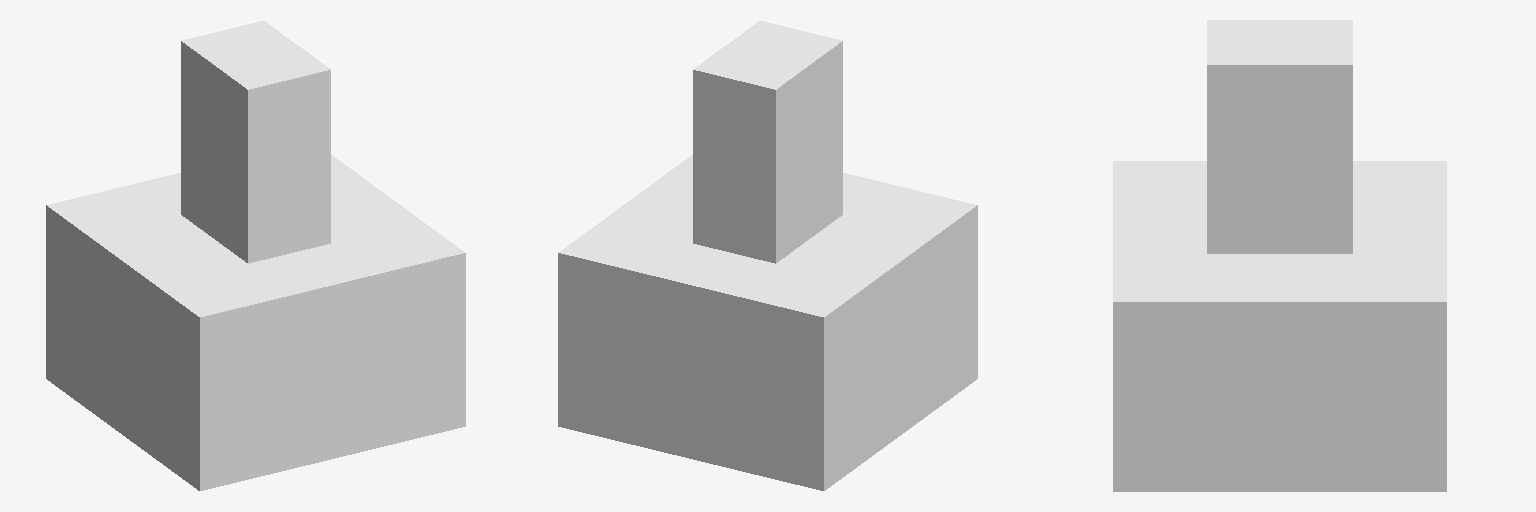
The robot description file, URDF, robot "prism":
<robot name="prism">
	<link name="_name">
		<visual>
			<origin rpy="0 0 0" xyz="0.0 0.0 -0.007037914691943129" />
			<geometry>
				<mesh filename="prism.obj" scale=".001 .001 .001" />
			</geometry>
			<material name="texture">
				<color rgba="1.0 1.0 1.0 1.0" />
			</material>
		</visual>
		<collision>
			<geometry>
				<mesh filename="prism_vhacd.obj" scale=".001 .001 .001" />
			</geometry>
		<origin rpy="0 0 0" xyz="0.0 0.0 -0.007037914691943129" /></collision>
		<inertial>
			<mass value="1.0" />
			<inertia ixx="1.0" ixy="0.0" ixz="0.0" iyy="1.0" iyz="0.0" izz="1.0" />
		</inertial>
	</link>
</robot>

--- Render facts (derived) ---
The picture shows the robot from 3 angles, left to right: view 1: azimuth 30°, elevation 25°; view 2: azimuth 150°, elevation 25°; view 3: azimuth 270°, elevation 25°; orthographic projection.
Robot: prism — 1 links, 0 joints (none); root link _name; default pose: all joints at 0.
Visible links, largest first — view 1: _name; view 2: _name; view 3: _name.
Boxes of the visible links, left/top/right/bottom form: _name: left=46, top=21, right=465, bottom=490; _name: left=558, top=21, right=977, bottom=490; _name: left=1113, top=20, right=1446, bottom=491.
Bounding box of the posed robot: 0.016 × 0.016 × 0.02 m (x, y, z).
1 mesh visuals loaded from 1 distinct referenced files (1 OBJ).